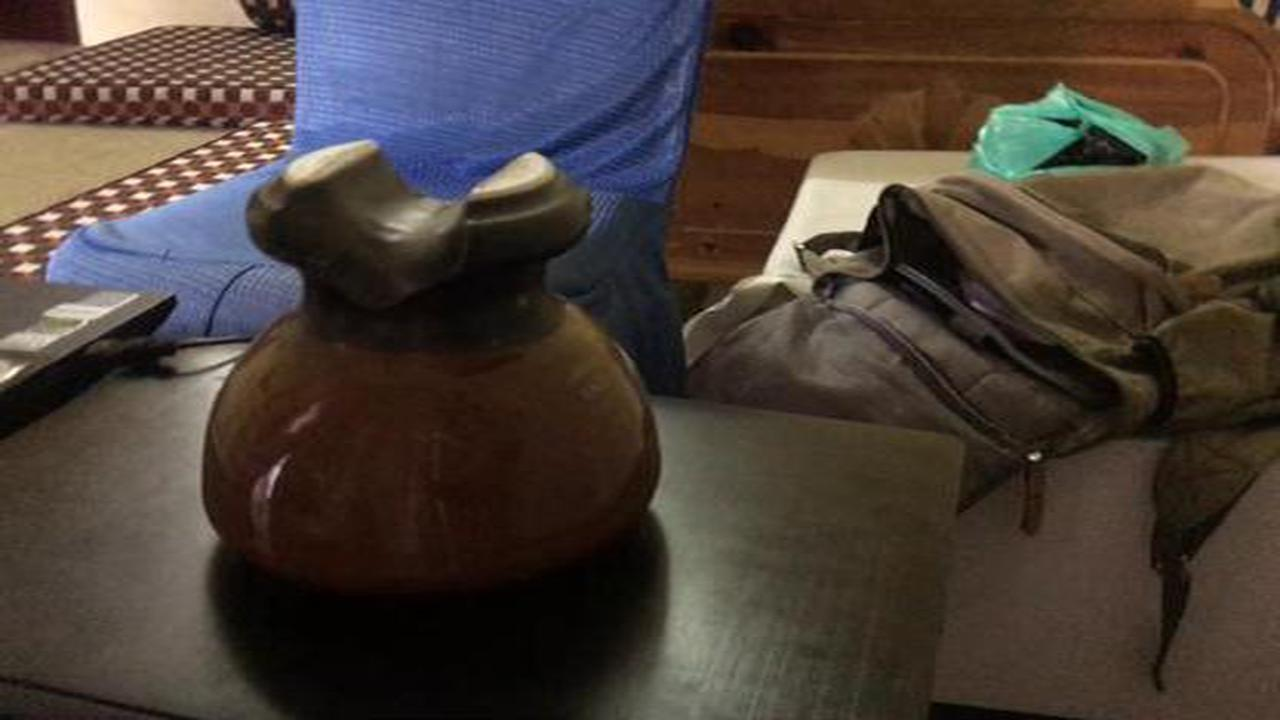insulator_pin: (185, 125, 693, 617)
